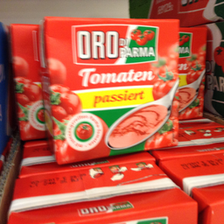tomato_sauce: (39, 16, 180, 166)
